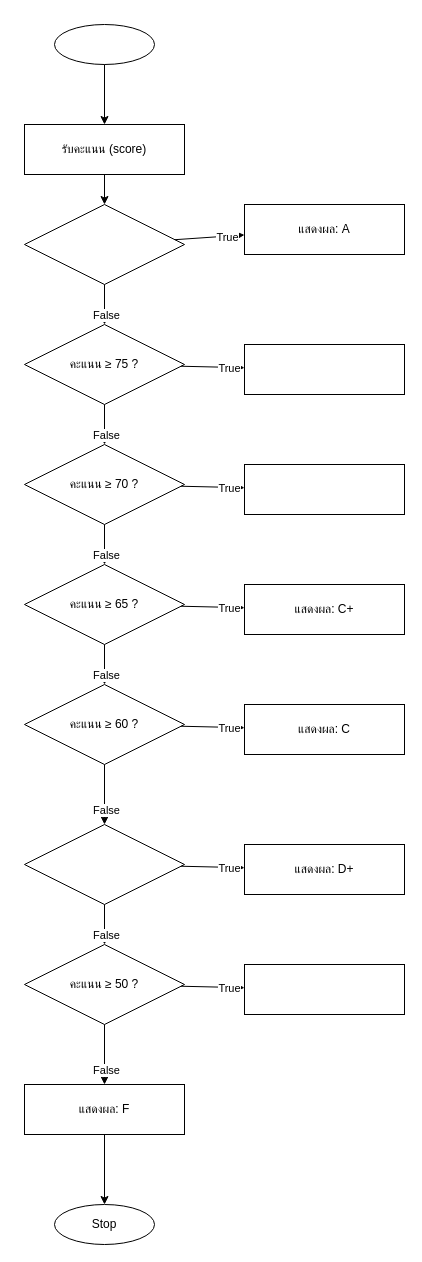
This 422x1262 diagram has some shape labels left out. The shapes that lost their labels are listed below. From the top down, each one's centre as x and y in pixels, then its label:
At point (104, 44): "Start".
At point (104, 244): "คะแนน ≥ 80 ?".
At point (324, 369): "แสดงผล: B+".
At point (324, 489): "แสดงผล: B".
At point (104, 864): "คะแนน ≥ 55 ?".
At point (324, 989): "แสดงผล: D".
